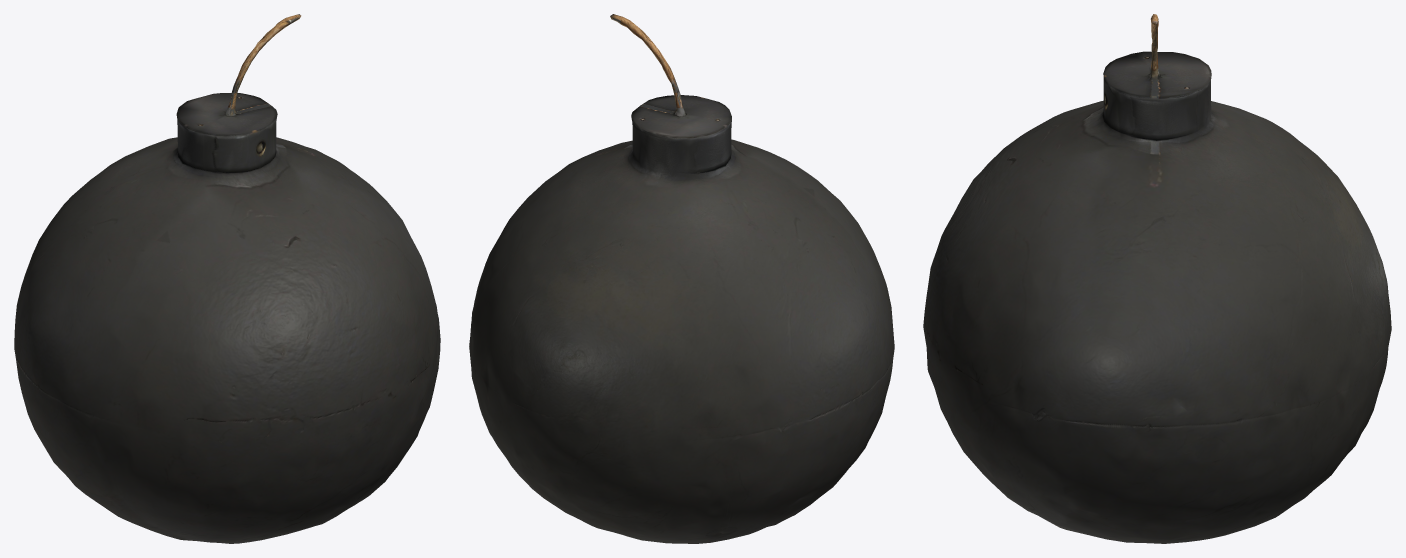
The model's file is Cartoon_Bomb_0404141400_texture.glb.
3 views of the same model, side by side, from view 1: azimuth 30°, elevation 25°; view 2: azimuth 150°, elevation 25°; view 3: azimuth 270°, elevation 25° (orthographic). The views are drawn at different scales.
Size of the model in its own units: 1.6 by 2.01 by 1.59.
1 material, 1 textured.
